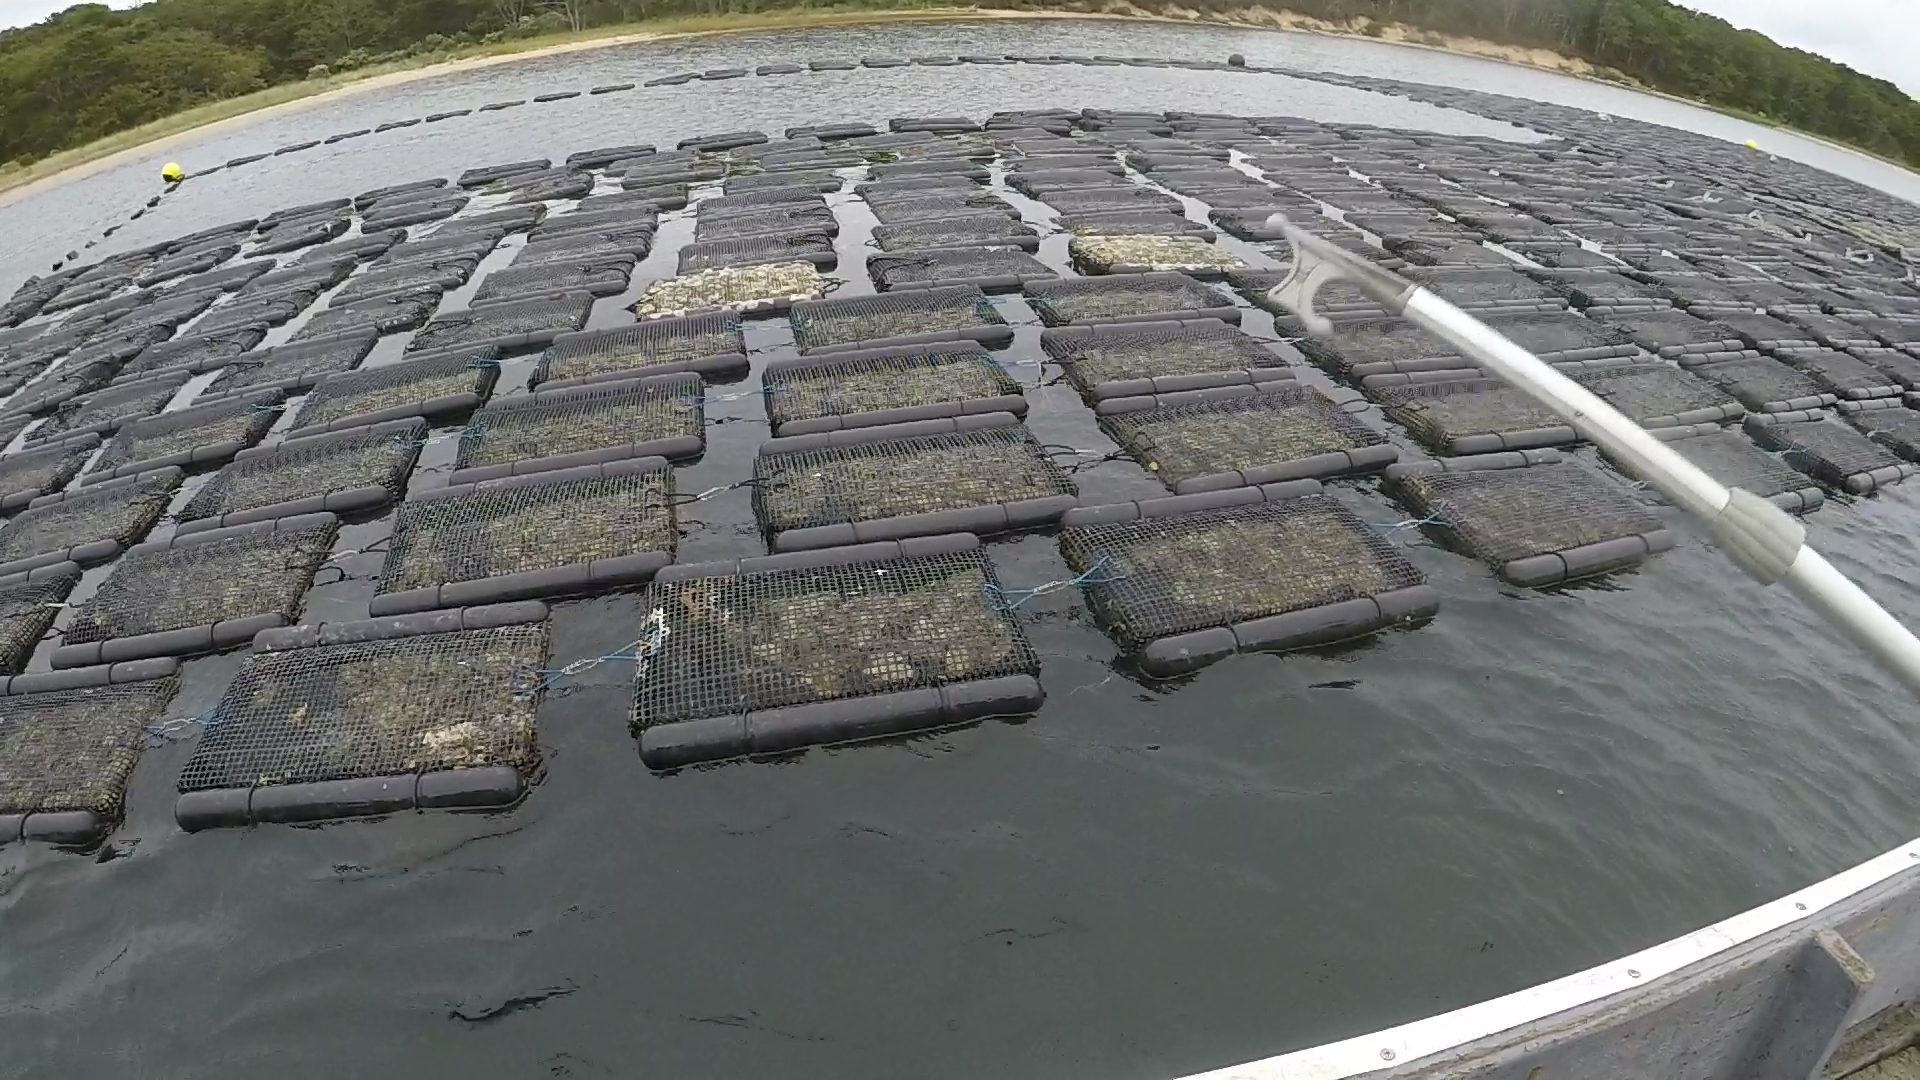bag: (162, 589, 562, 837), (644, 531, 1033, 760), (1064, 477, 1436, 678), (620, 255, 829, 324)
